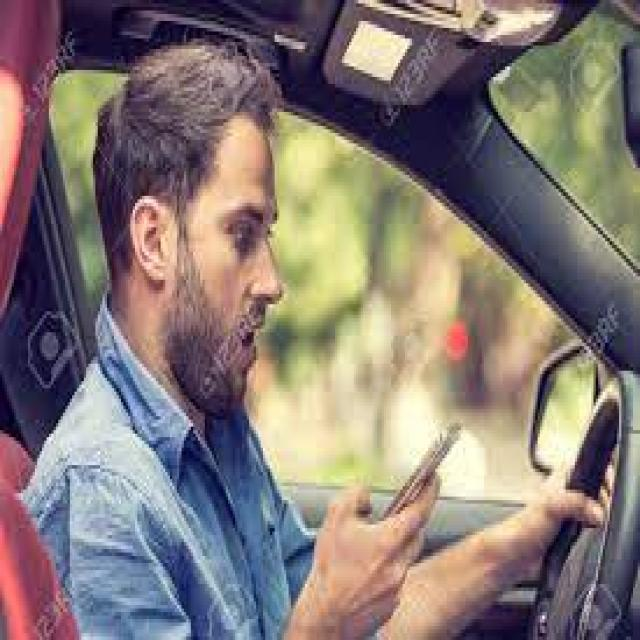Cellphone_texting: (309, 412, 468, 636)
